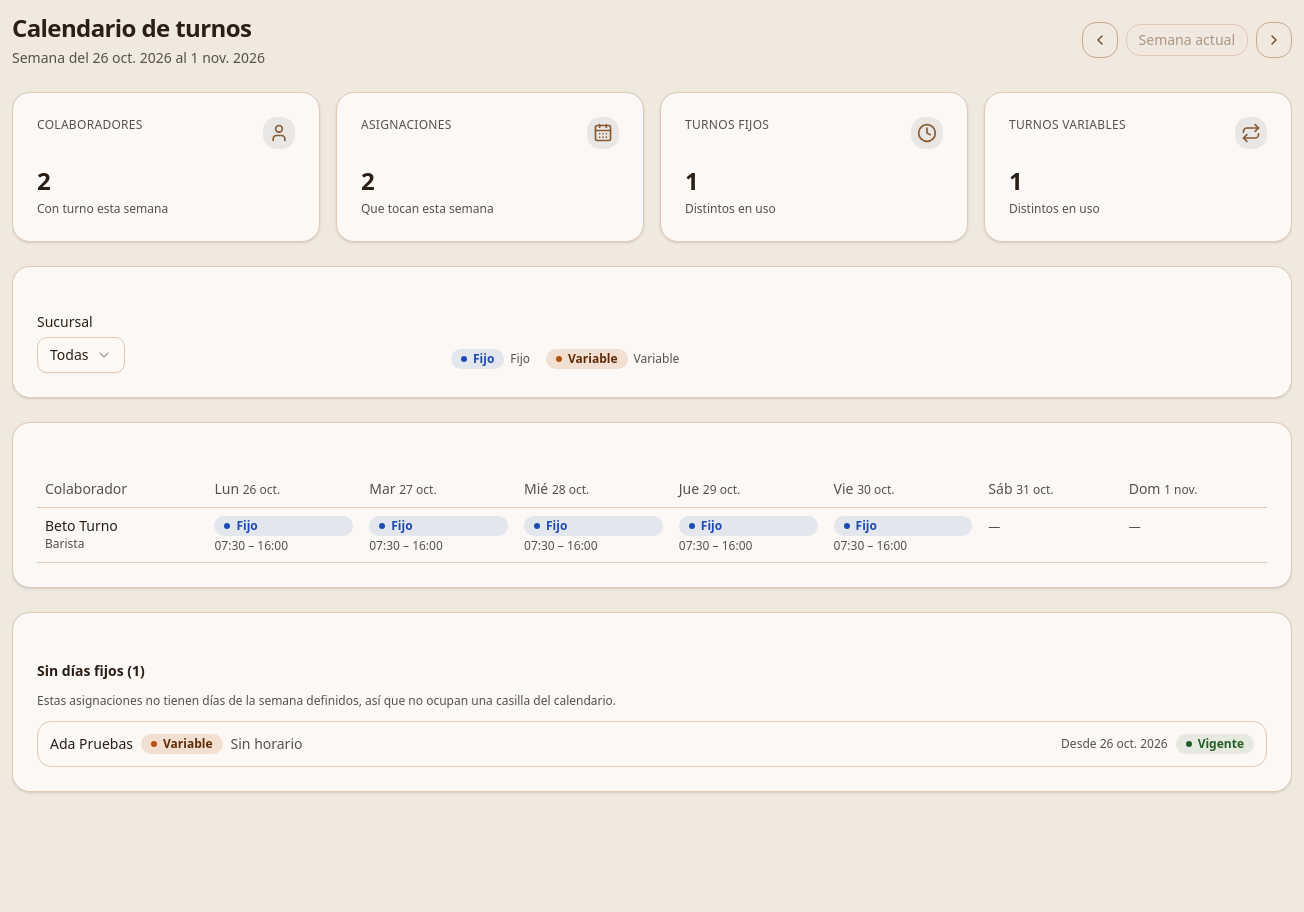
it: Calendario de turnos › navega a la semana anterior
Expected: the text "Beto Turno" is shown, [45, 516, 118, 535]
Click the button named "Semana anterior".
click(1100, 40)  # box [1082, 22, 1118, 58]
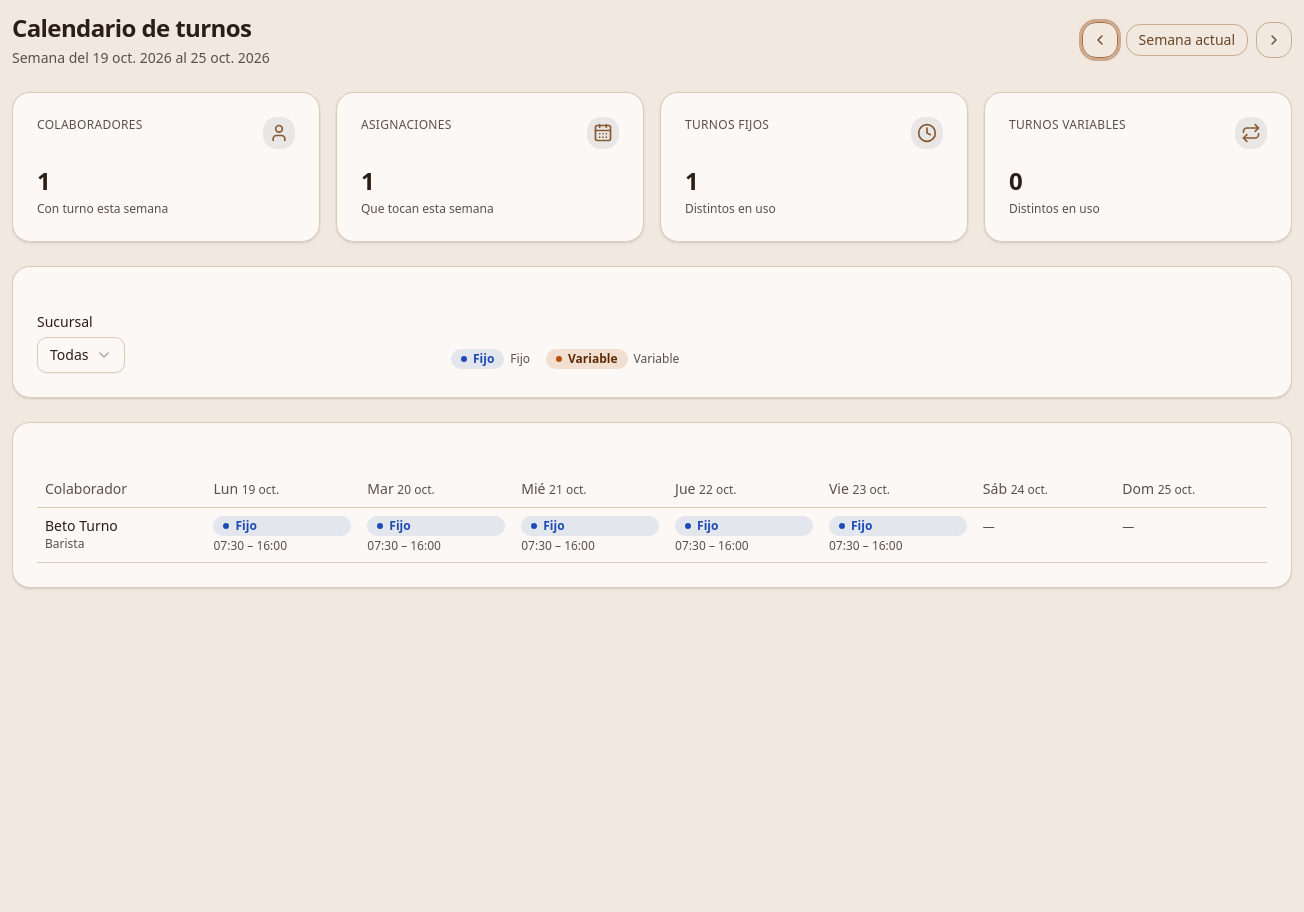
Expected: the text "Beto Turno" is shown, [45, 516, 118, 535]
Now the text "Ada Pruebas" is gone
Now the heading "Sin días fijos" is gone
